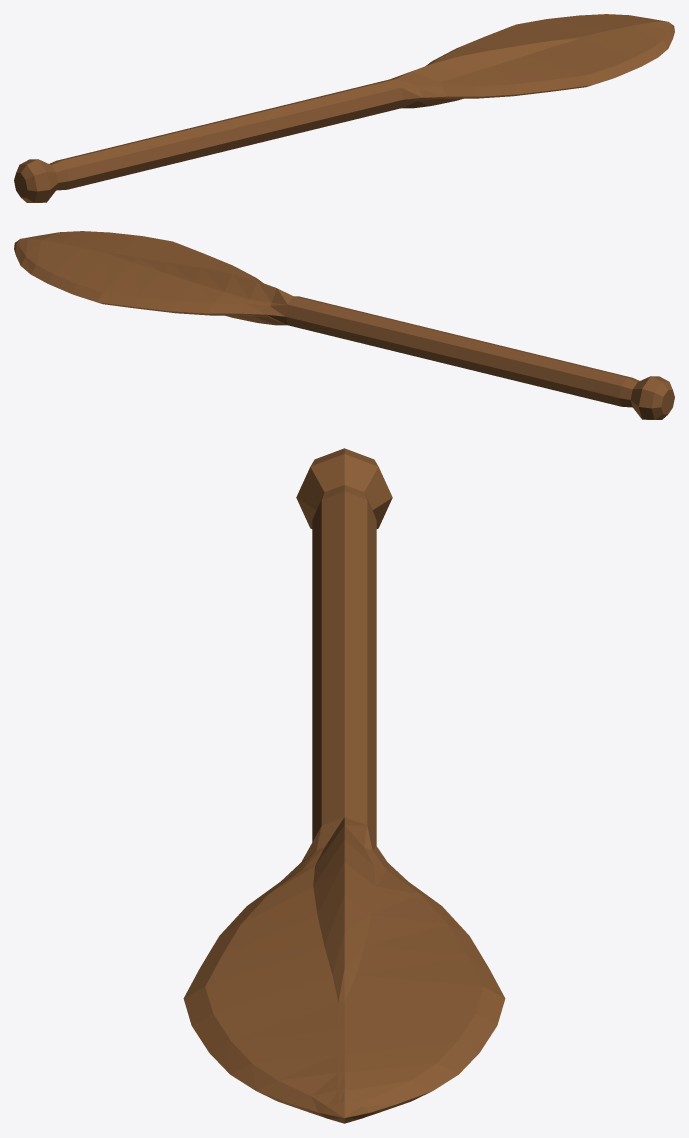
Rendered from hoe-canoe-paddle-2de51a.glb.
The picture shows the model from 3 angles, top to bottom: view 1: azimuth 30°, elevation 25°; view 2: azimuth 150°, elevation 25°; view 3: azimuth 270°, elevation 25°; orthographic projection. The views are drawn at different scales.
Parts seen in each view (by area): view 1: hoe-body; view 2: hoe-body; view 3: hoe-body.
Part boxes in pixels (box(x1,y1,x2,y2)): hoe-body: box(14, 14, 674, 202); hoe-body: box(14, 231, 674, 419); hoe-body: box(183, 448, 505, 1123).
Bounding box in the file's own units: 1.5 × 0.096 × 0.32.
